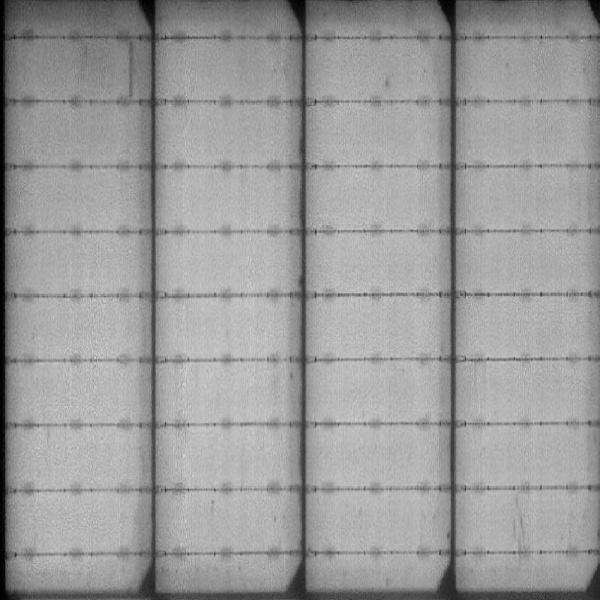scratch: (127, 40, 136, 96)
